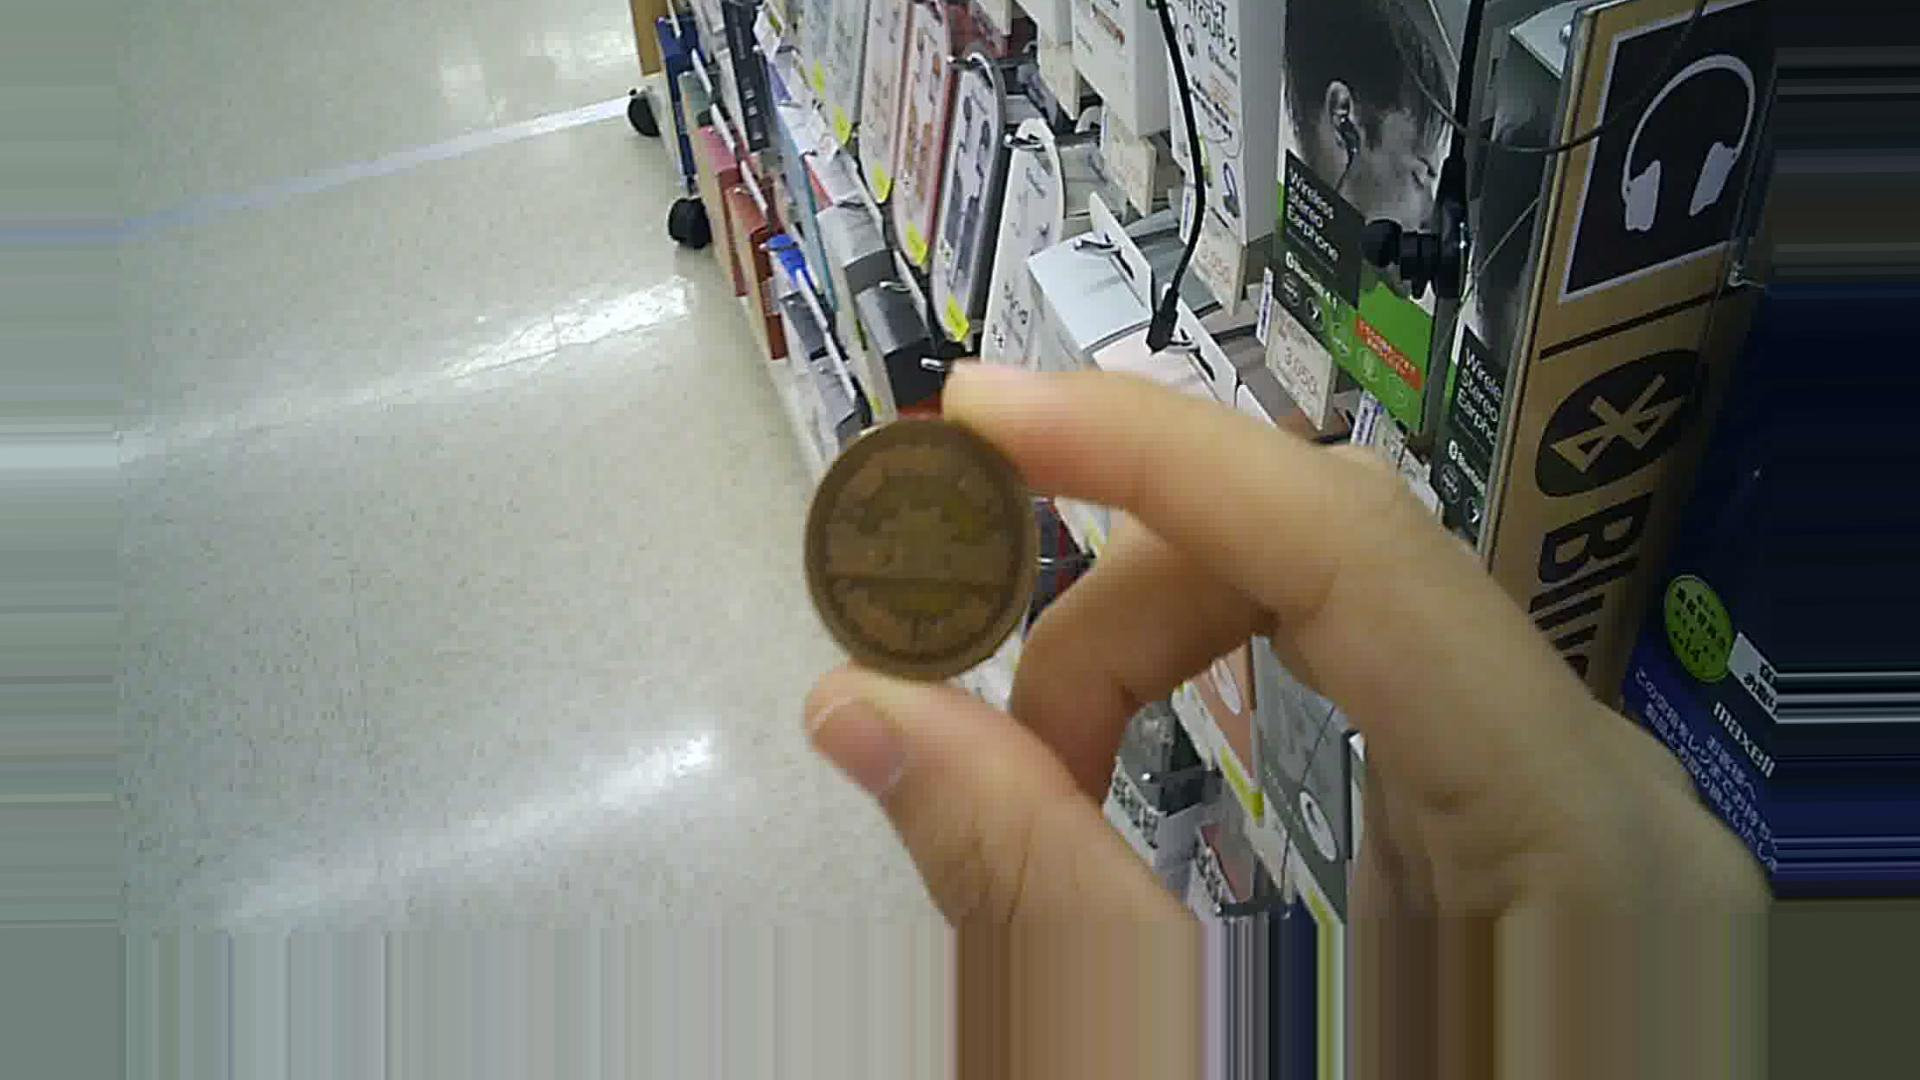10 Yen: (794, 404, 1046, 686)
